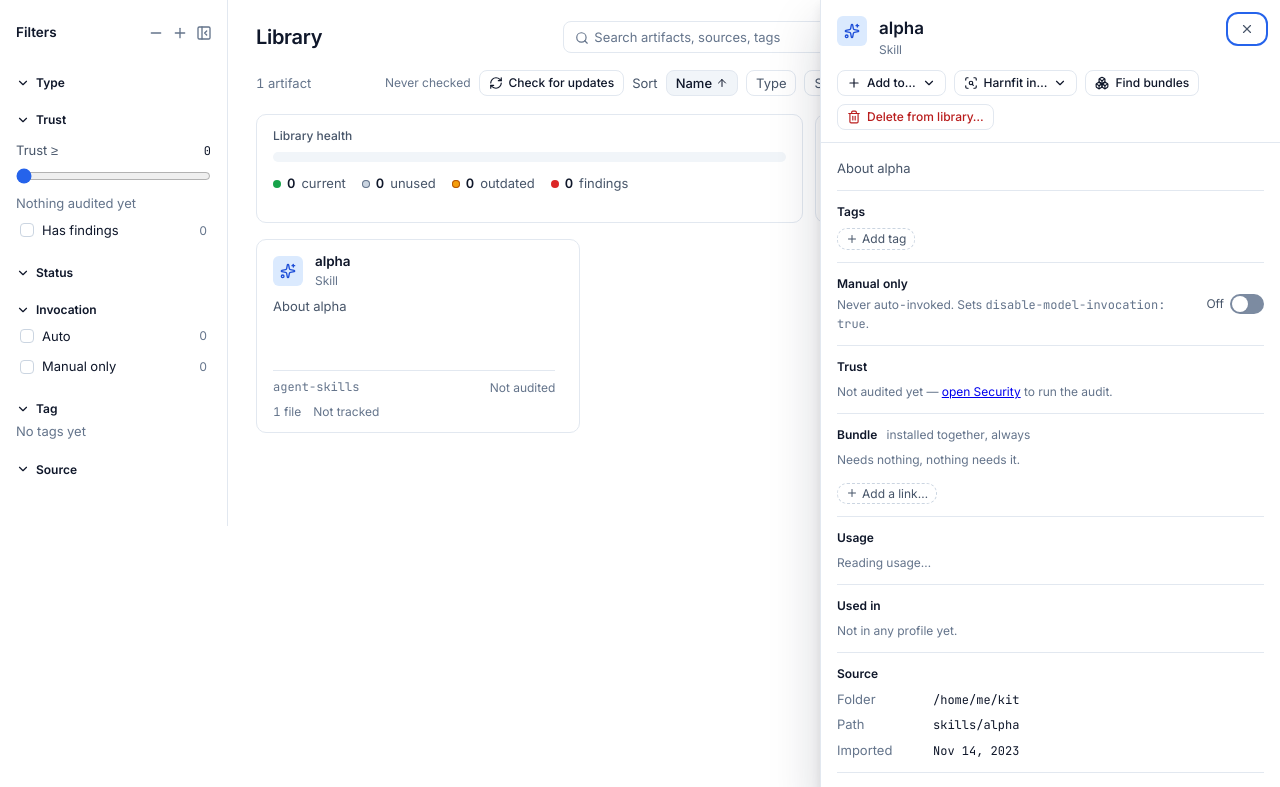
Scenario: tags in the detail panel › never offers Create for a name that exists, ignoring what else is typed
This screenshot has width=1280, height=787.
Click the button "Add tag" at (876, 239), box [837,228,915,250]
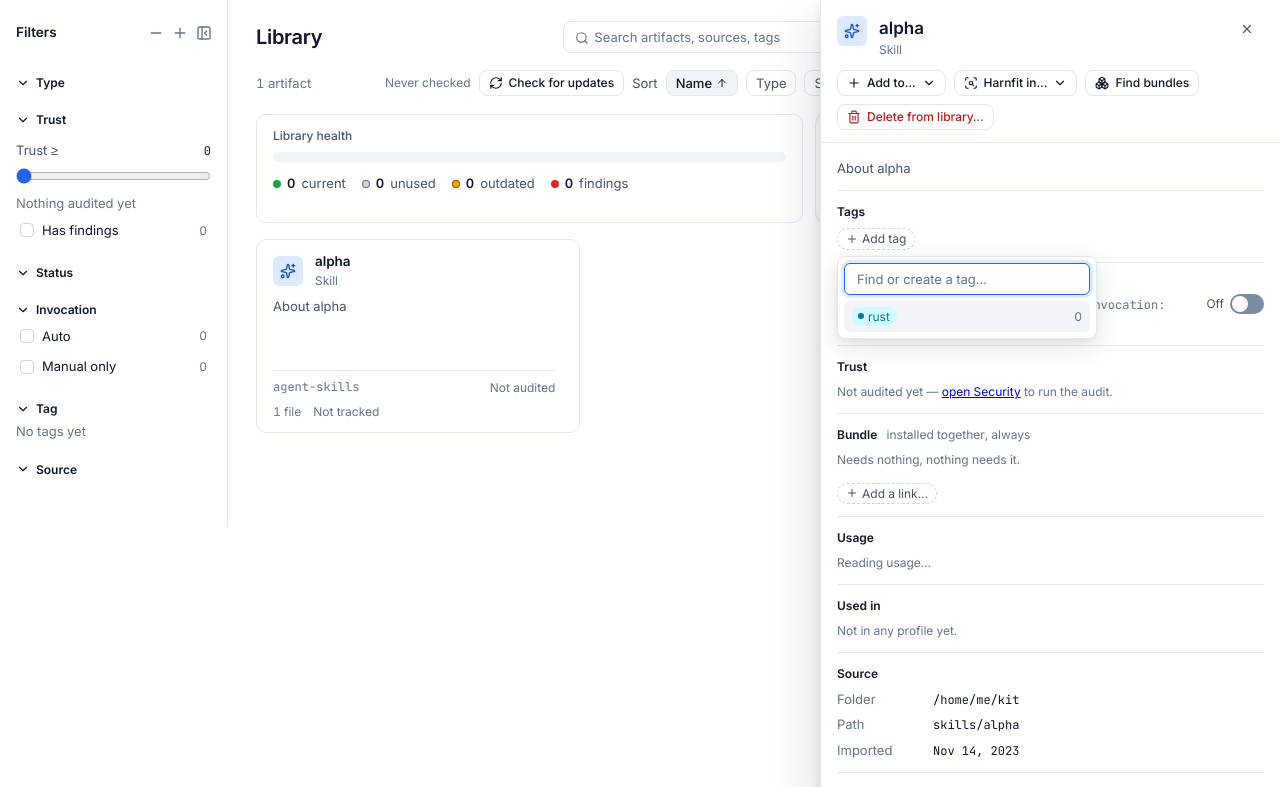
Type "rust" into the dropdown labelled "Find or create a tag" at (967, 279), box [844,263,1090,295]
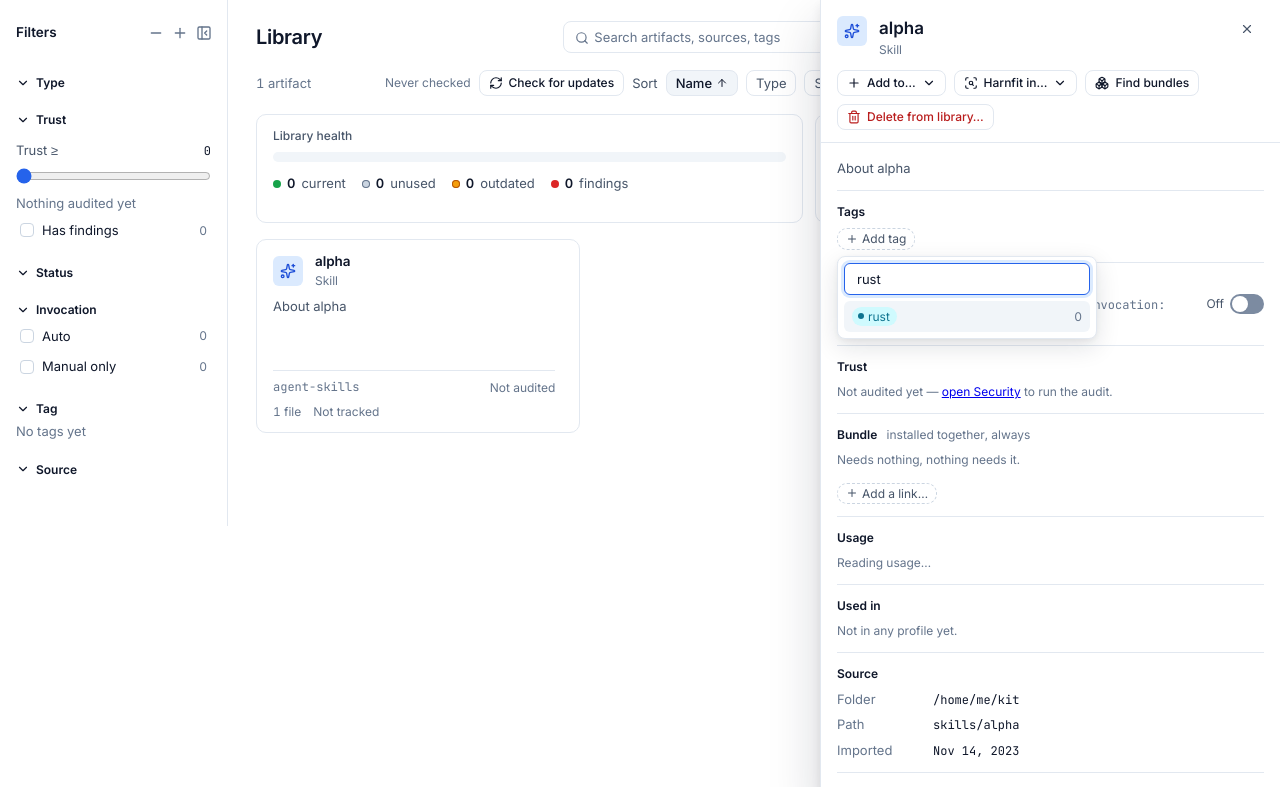
Expected: the option "Create" is not shown
Replace the text in the dropdown named "Find or create a tag" with "ru" at (967, 279), box [844,263,1090,295]
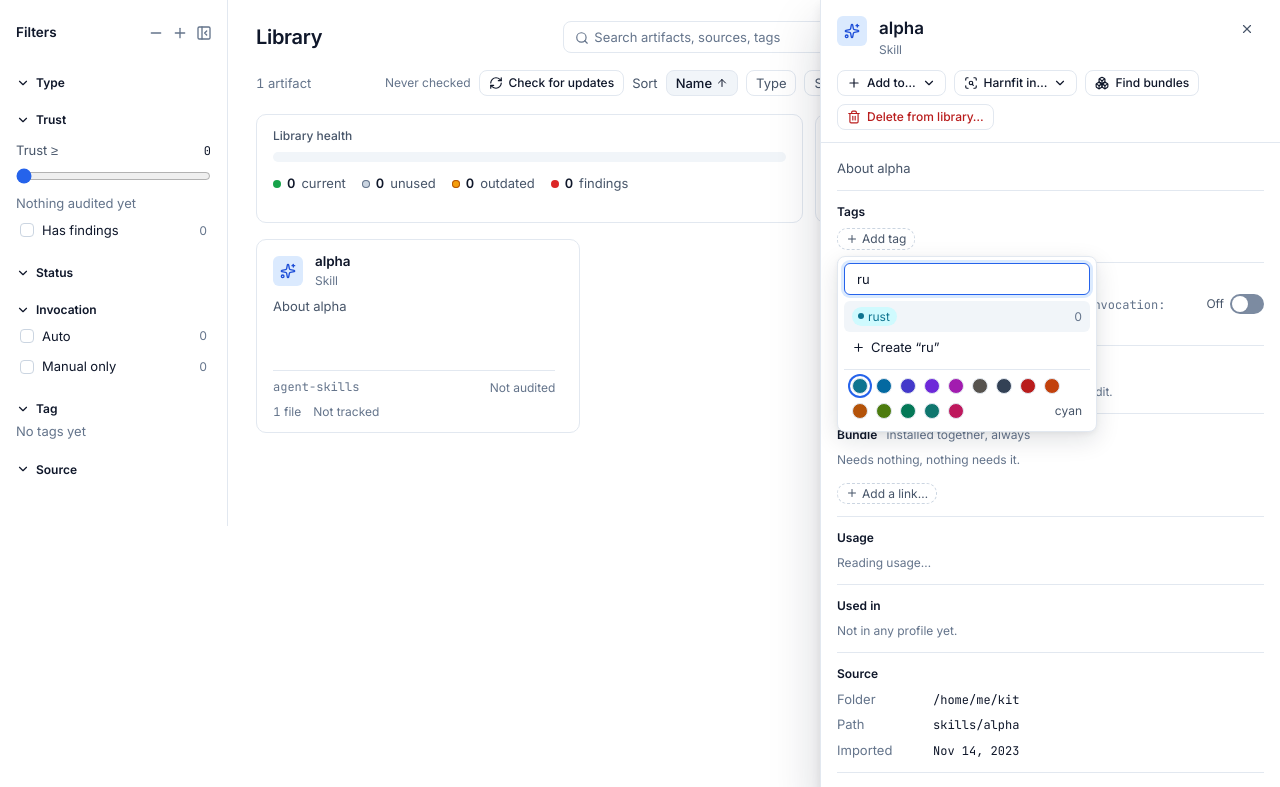
Now the option "Create “ru”" is shown, box [852,339,940,355]
